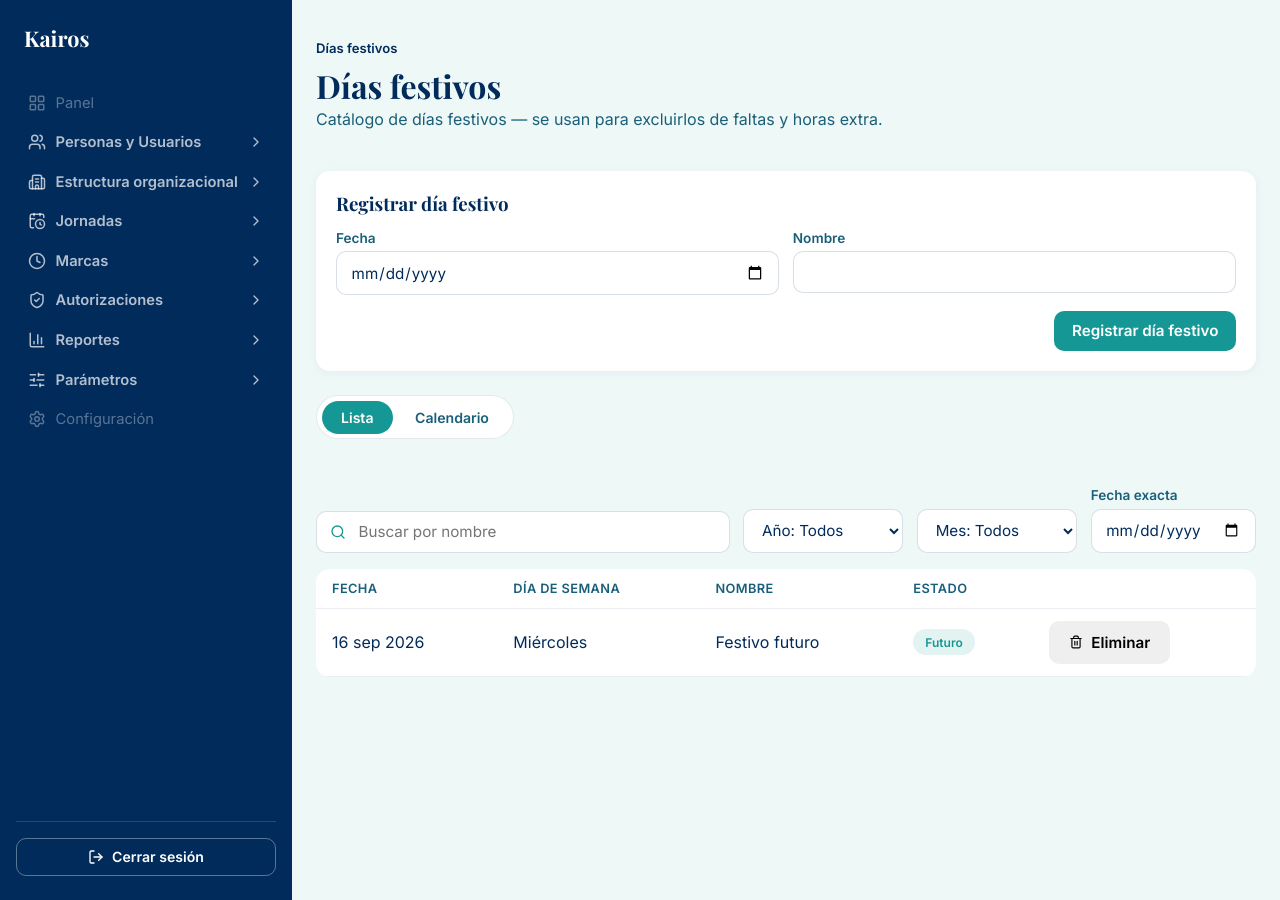
Scenario: DiasFestivosPage › un 422 al eliminar se muestra sin cerrar la confirmación
Expected: the text "Festivo futuro" is shown, [699,608,897,676]
Click the button with aria-label "eliminar festivo futuro": point(1110, 642) [1049,621,1170,664]
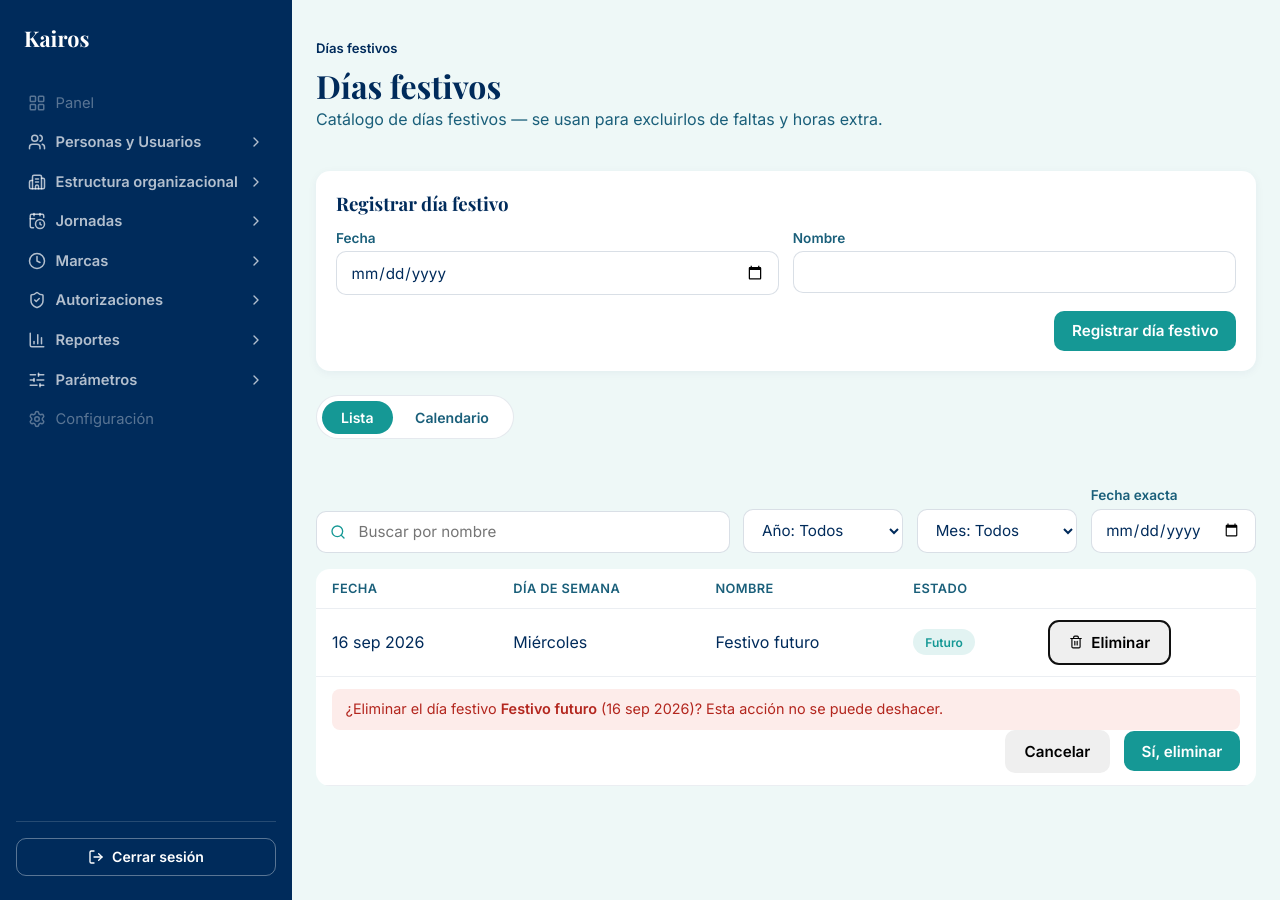
Click the button "Sí, eliminar": point(1182, 751) [1124,731,1240,771]
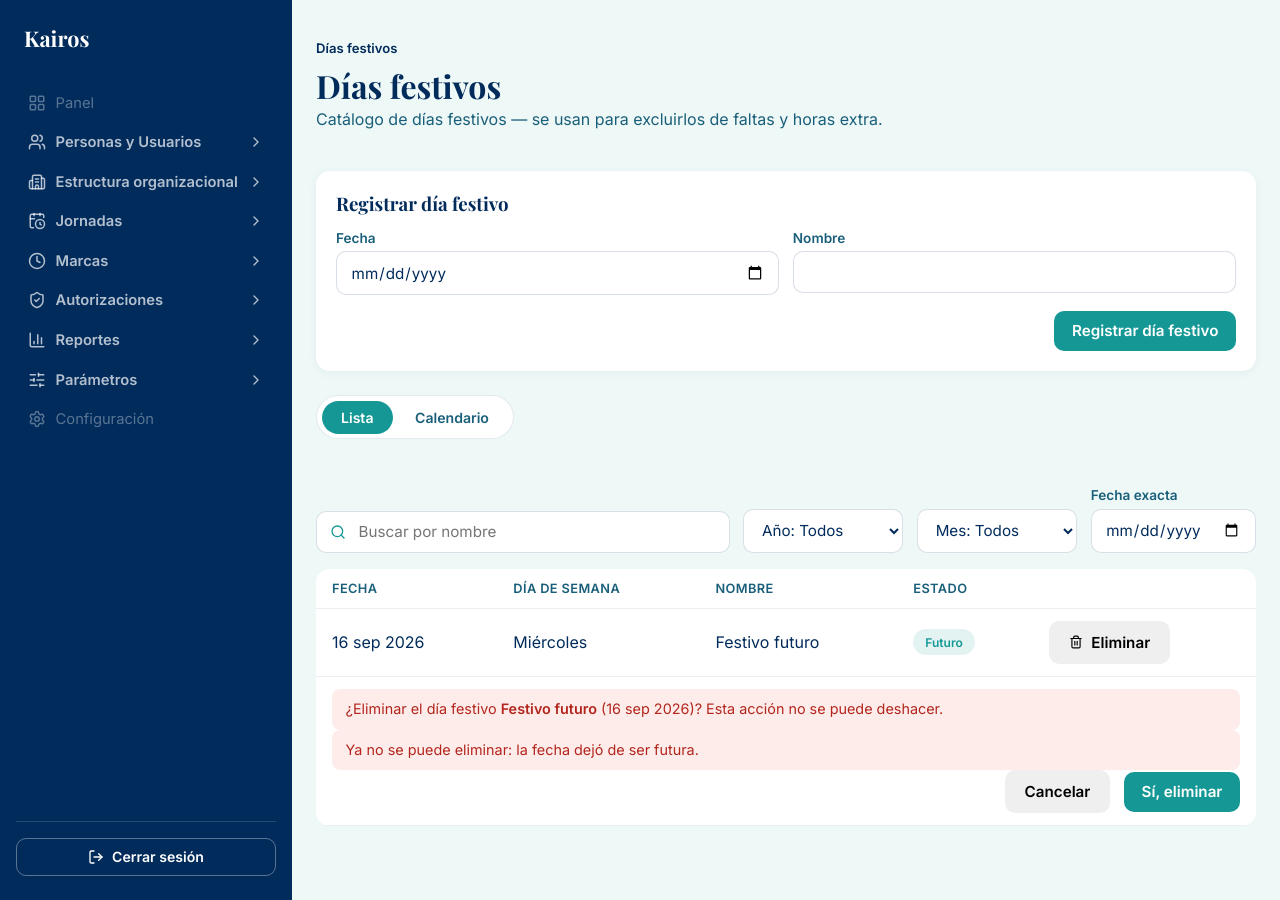
Expected: the button "Sí, eliminar" is shown, [1124,772,1240,812]
Expected: the text "Ya no se puede eliminar: la fecha dejó de ser futura." is shown, [332,730,1240,770]
